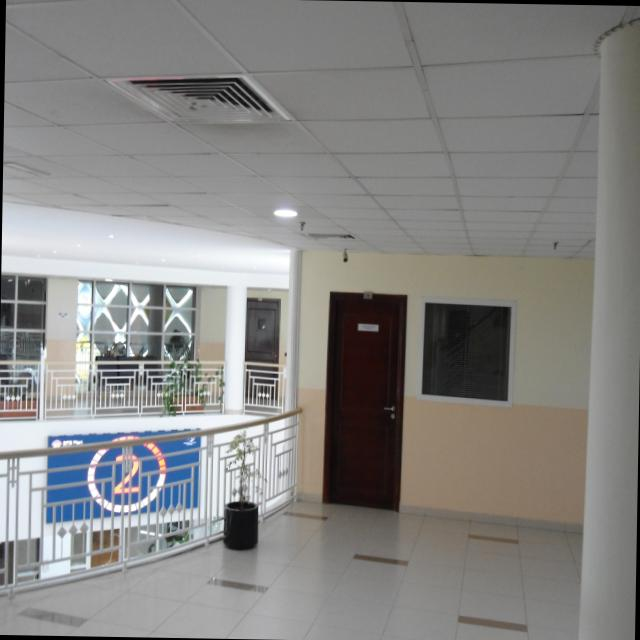board: (41, 427, 207, 530)
door: (320, 292, 410, 510), (236, 296, 286, 410)
pillar: (580, 15, 640, 640), (221, 282, 248, 417)
railing: (0, 406, 307, 587), (0, 355, 225, 418), (243, 358, 291, 412)
window: (70, 272, 200, 375), (416, 297, 522, 402), (0, 256, 47, 369)
